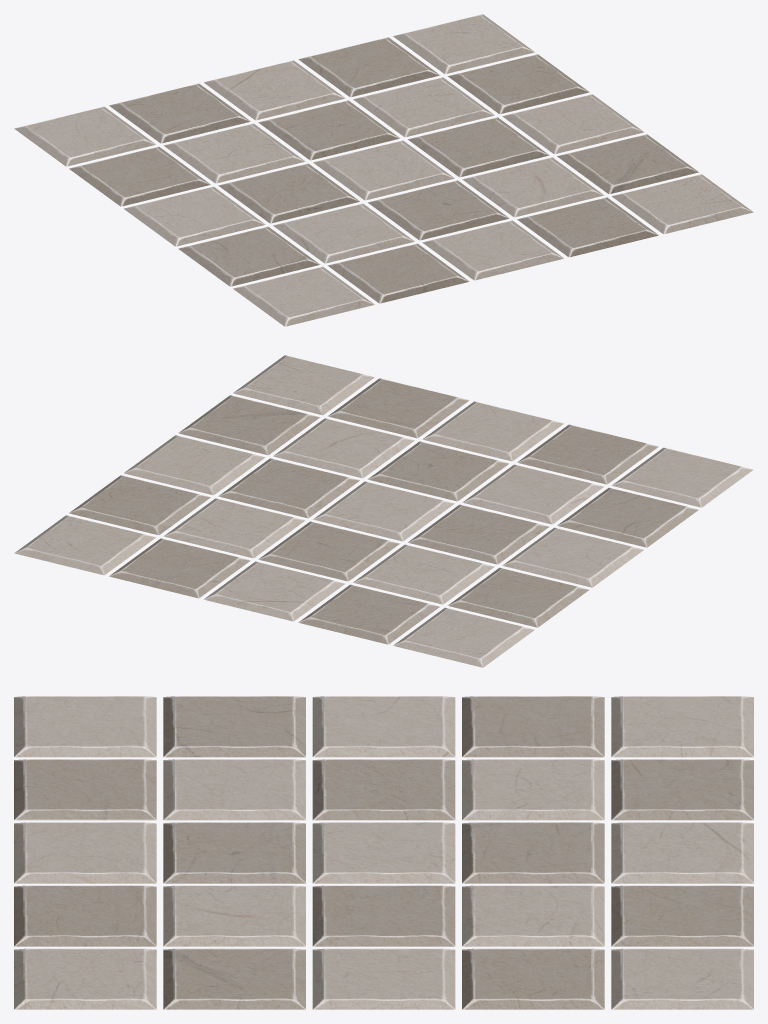
The model's file is SM_GridTiles.fbx.
3 renders of one model, top to bottom at view 1: azimuth 30°, elevation 25°; view 2: azimuth 150°, elevation 25°; view 3: azimuth 270°, elevation 25°, orthographic. The views are drawn at different scales.
Visible parts, largest first — view 1: Cube.002; view 2: Cube.002; view 3: Cube.002.
Boxes of the visible parts, x1,y1,x2,y2 form: Cube.002: (14,14,753,326); Cube.002: (14,355,753,667); Cube.002: (14,696,753,1009).
Size of the model in its own units: 1243 by 10.47 by 1243.
